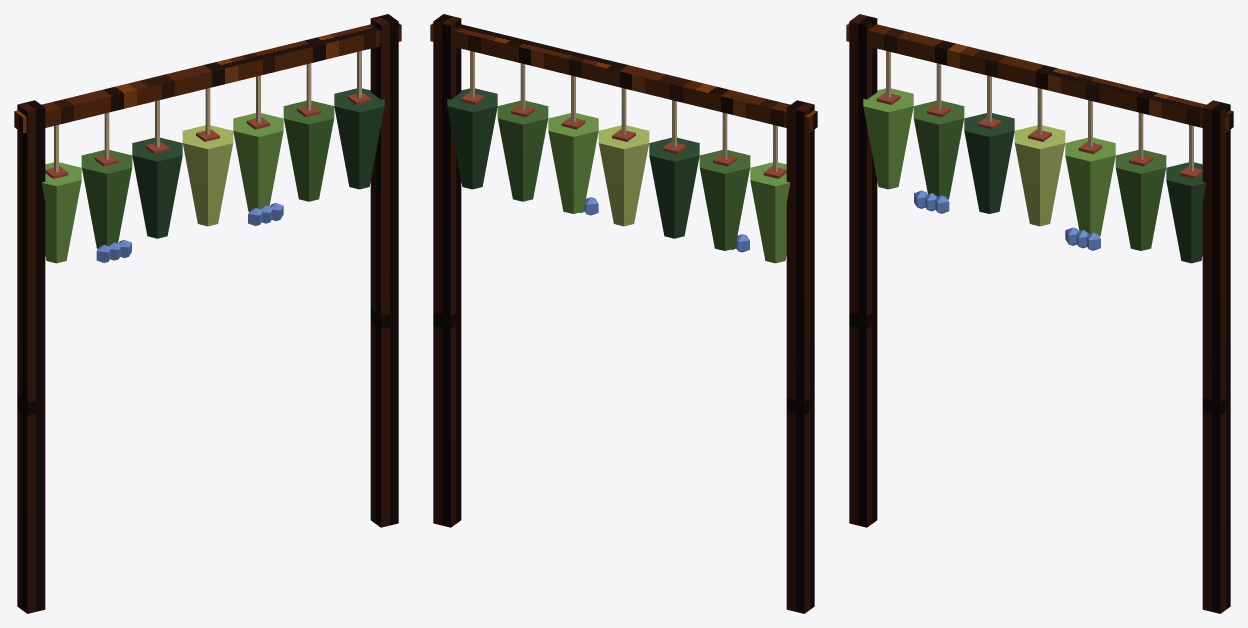
Rendered from herb_rack.glb.
3 renders of one model, left to right at view 1: azimuth 30°, elevation 25°; view 2: azimuth 150°, elevation 25°; view 3: azimuth 330°, elevation 25°, orthographic.
Parts seen in each view (by area): view 1: herb_rack; view 2: herb_rack; view 3: herb_rack.
Boxes of the visible parts, bbox=[...] form: herb_rack: bbox=[14, 14, 401, 613]; herb_rack: bbox=[430, 14, 817, 613]; herb_rack: bbox=[846, 14, 1233, 613].
Bounding box in the file's own units: 1.5 × 1.9 × 0.1732.
Materials: 2 (1 with a texture image).
